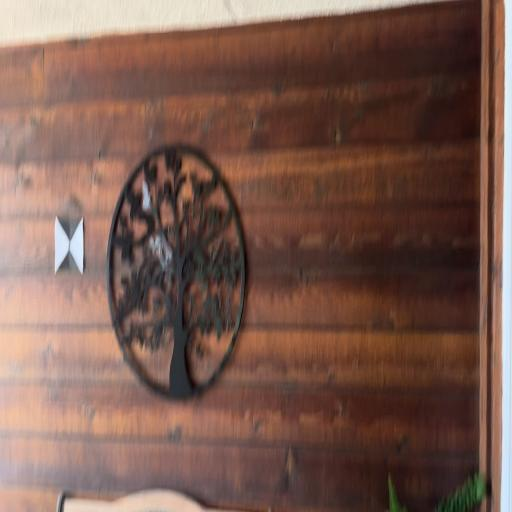target: (54, 219, 84, 274)
